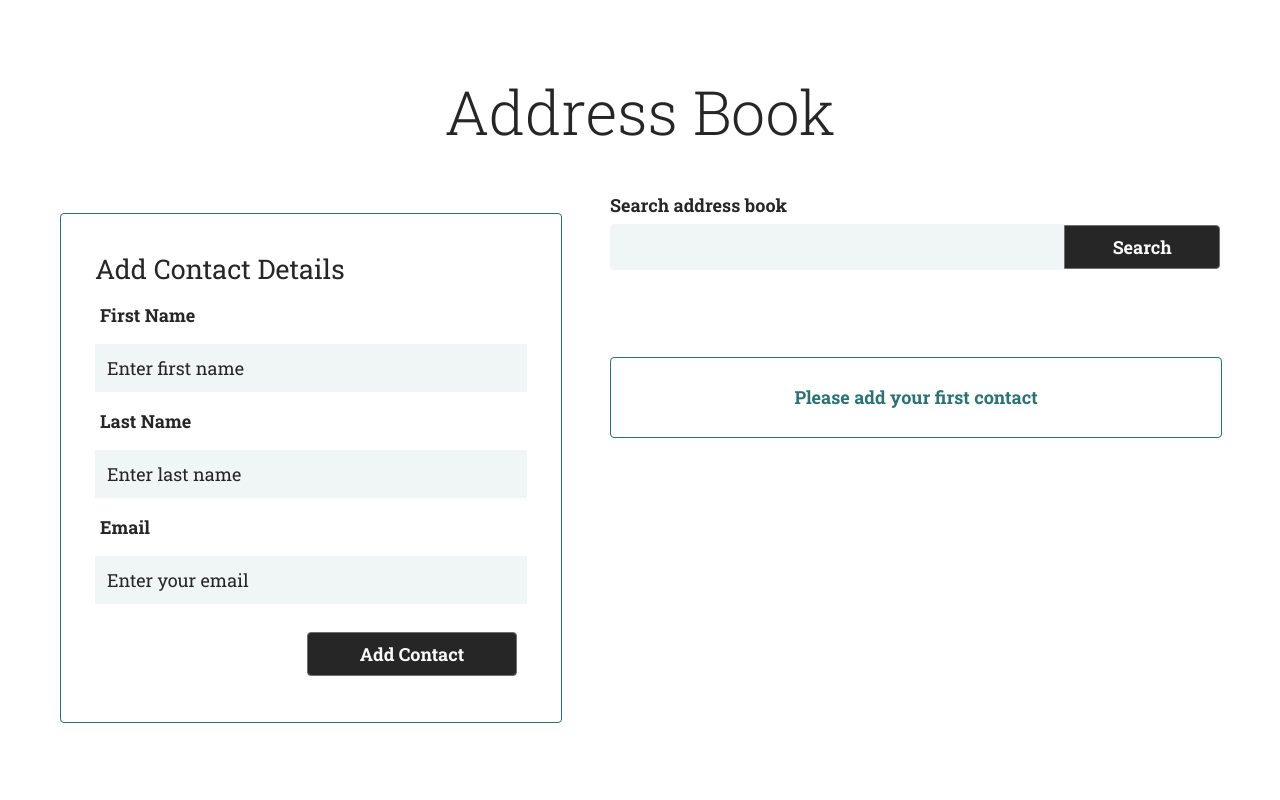
Test case: Add contact button › Should be enabed on valid email
In the field named "text" next to "Enter your email": (311, 580) [95,556,527,604], type "email@email.com"
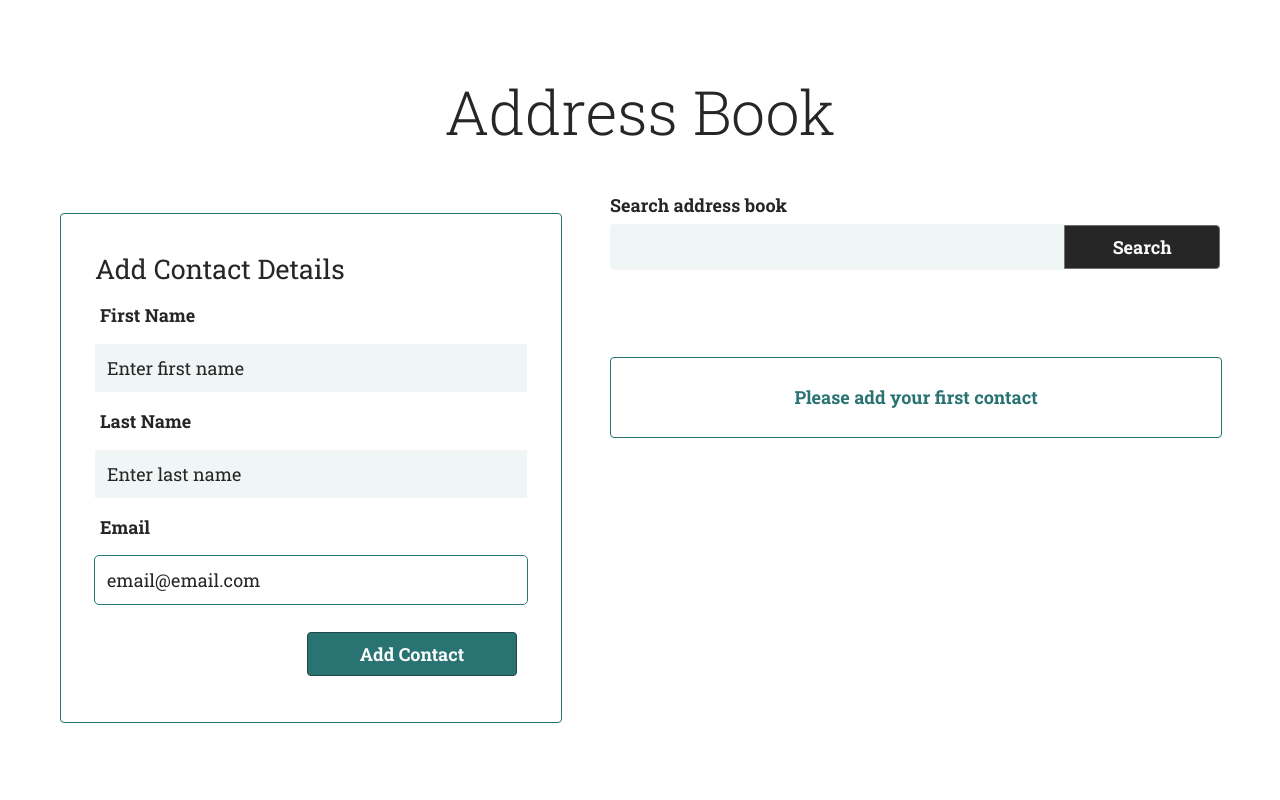
Now the button with test id "button" is enabled, box [307,632,517,676]
